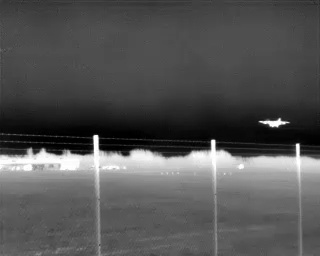AIRPLANE: (256, 115, 292, 130)
